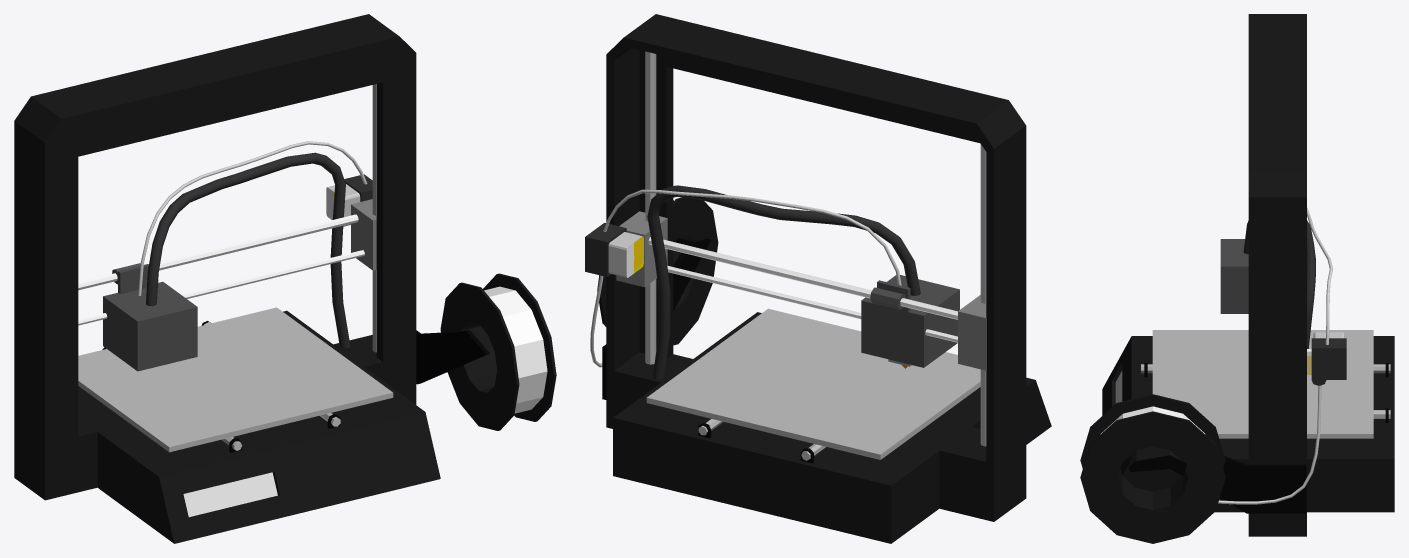
Rendered from 3Dprinter.fbx.
The picture shows the model from 3 angles, left to right: view 1: azimuth 30°, elevation 25°; view 2: azimuth 150°, elevation 25°; view 3: azimuth 270°, elevation 25°; orthographic projection. The views are drawn at different scales.
Visible parts, largest first — view 1: 3D_Printer; view 2: 3D_Printer; view 3: 3D_Printer.
Part boxes in pixels (<box>): 3D_Printer: <box>14,14,556,543</box>; 3D_Printer: <box>585,14,1051,543</box>; 3D_Printer: <box>1080,14,1394,543</box>.
Size of the model in its own units: 1233 by 1042 by 828.
